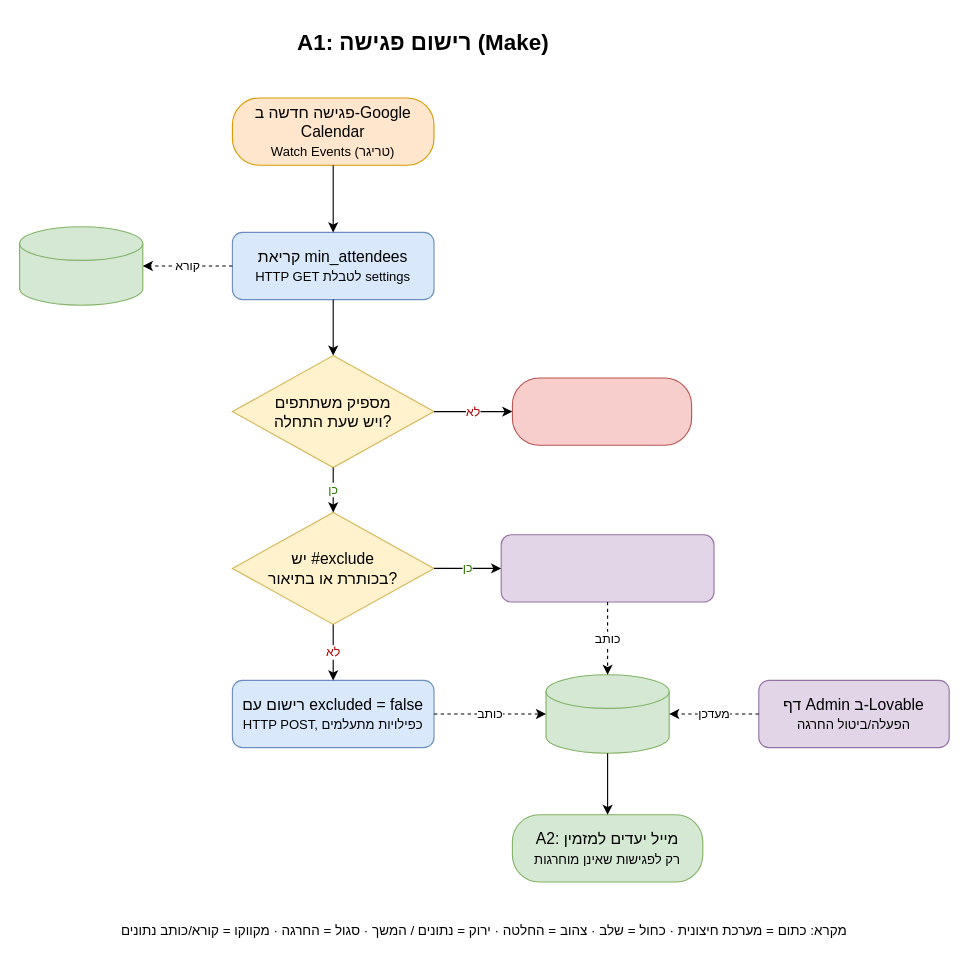
The diagram is 969 pixels wide and 968 high, and some of its shapes have lost their labels. Each missing label, with the centre of its shape:
"meetings Supabase" belongs at (x=607, y=713).
"settings Supabase" belongs at (x=80, y=265).
"הפגישה לא נרשמת" belongs at (x=601, y=411).
"רישום עם excluded = true ללא מיילים וללא איסוף נתונים" belongs at (x=607, y=568).
